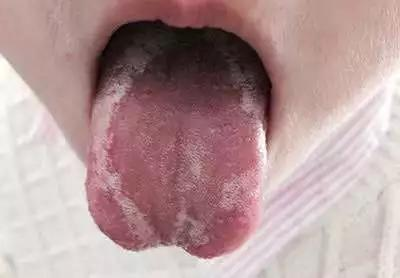baitaishe: (86, 36, 266, 259)
botaishe: (180, 144, 260, 210), (99, 173, 158, 245)
hongshe: (86, 36, 266, 259)
xinfeiao: (133, 229, 212, 259)
